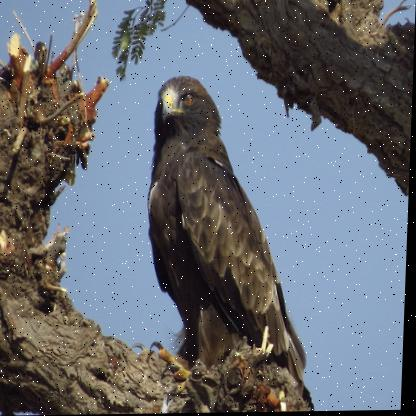Burung: (145, 75, 319, 390)
